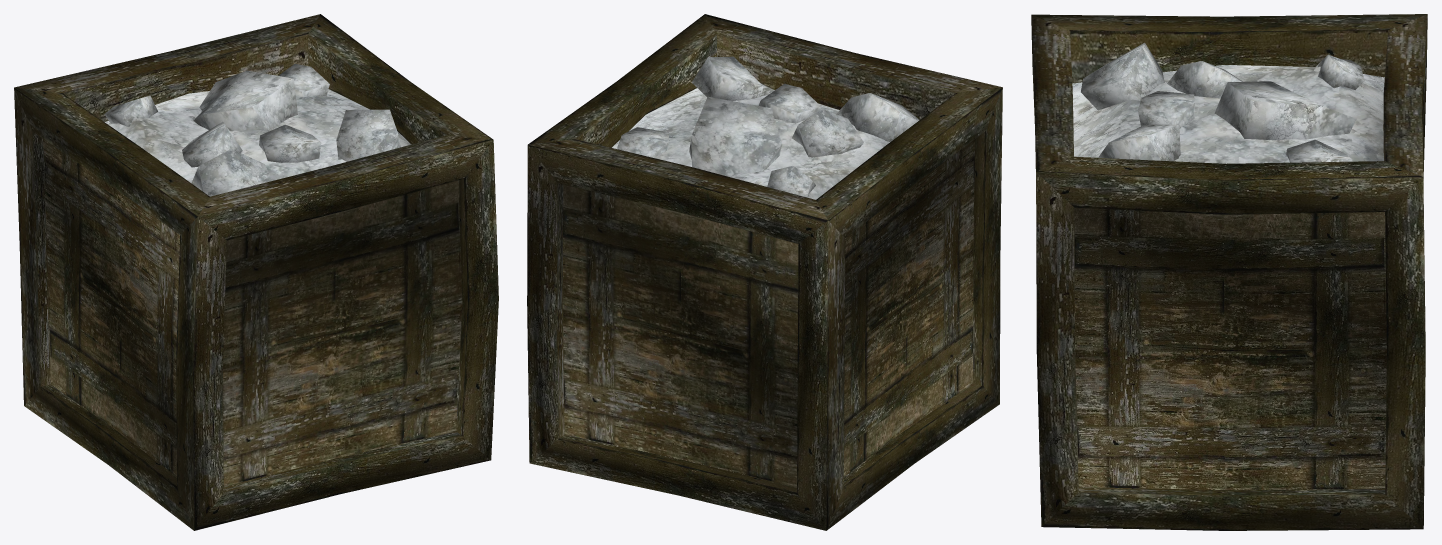
Rendered from KM_VOB_SALT_CHEST_02.glb.
3 views of the same model, side by side, from view 1: azimuth 30°, elevation 25°; view 2: azimuth 150°, elevation 25°; view 3: azimuth 270°, elevation 25° (orthographic). The views are drawn at different scales.
Visible parts, largest first — view 1: Mesh; view 2: Mesh; view 3: Mesh.
Part boxes in pixels (x1,y1,x2,y2): Mesh: (14,14,498,530); Mesh: (527,14,1002,530); Mesh: (1031,14,1427,530).
Size of the model in its own units: 0.9478 by 0.9949 by 0.9603.
3 materials, 3 textured.
